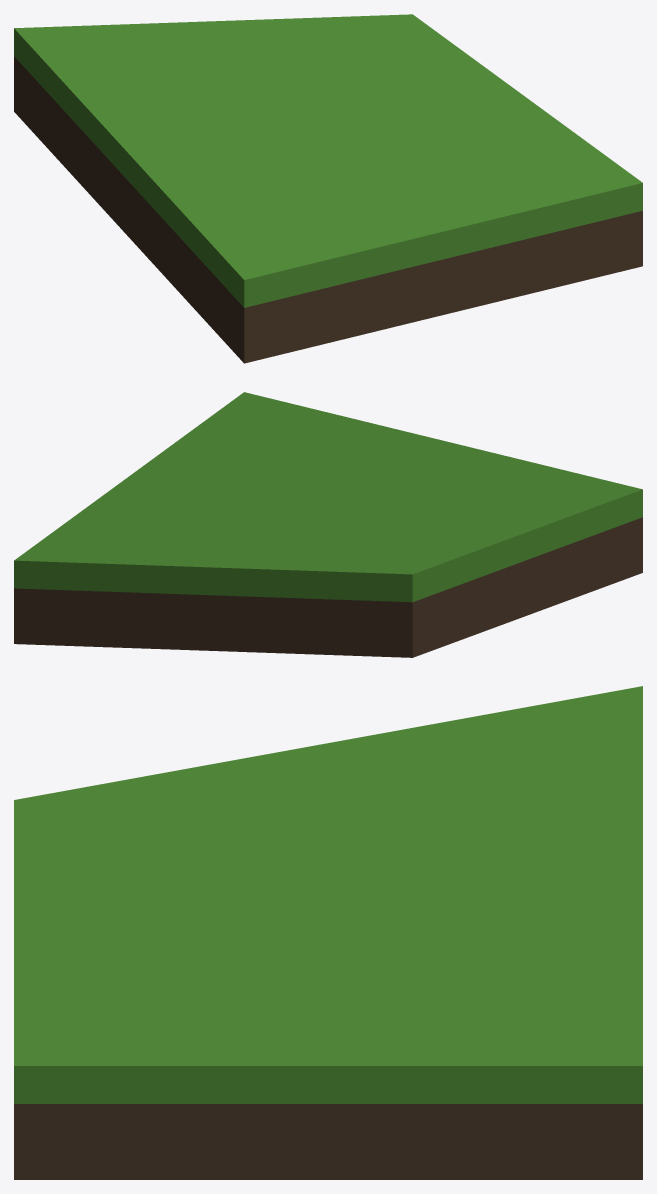
File: tiles_tile-hill-corner.fbx
3 views of the same model, one above another, from view 1: azimuth 30°, elevation 25°; view 2: azimuth 150°, elevation 25°; view 3: azimuth 270°, elevation 25° (orthographic). The views are drawn at different scales.
Visible parts, largest first — view 1: tiles_tile_hill_corner; view 2: tiles_tile_hill_corner; view 3: tiles_tile_hill_corner.
Part boxes in pixels (box(x1,y1,x2,y2)): tiles_tile_hill_corner: box(14, 14, 642, 363); tiles_tile_hill_corner: box(14, 392, 642, 657); tiles_tile_hill_corner: box(14, 686, 642, 1179).
Bounding box in the file's own units: 200 × 80 × 200.
